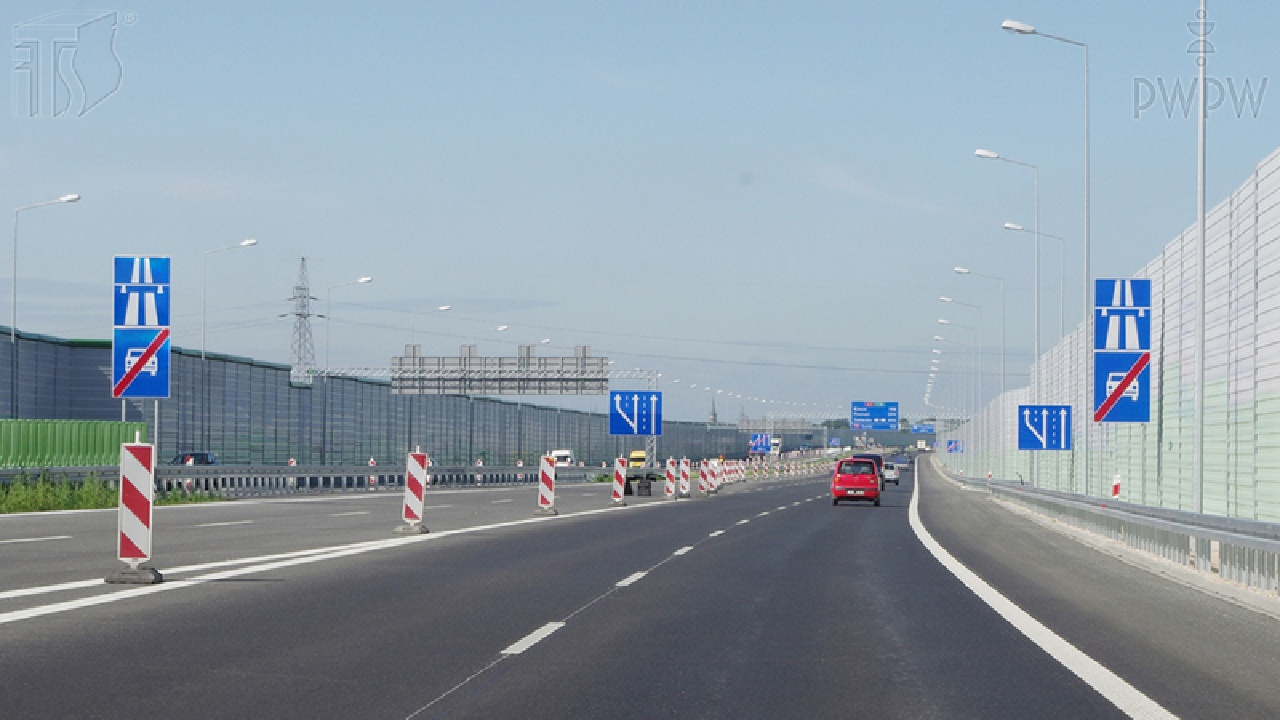D8: (1092, 351, 1151, 423), (112, 328, 169, 395)
D9: (111, 254, 170, 327), (1093, 279, 1152, 352)
